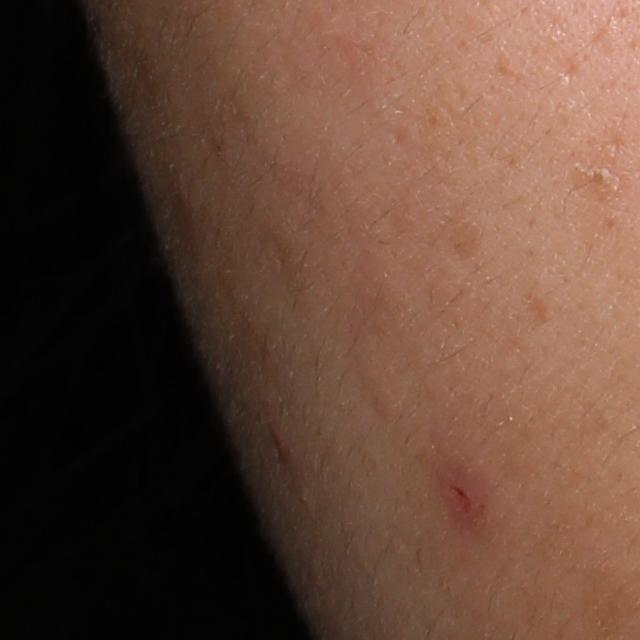papule: (429, 456, 493, 536), (264, 419, 293, 463)
